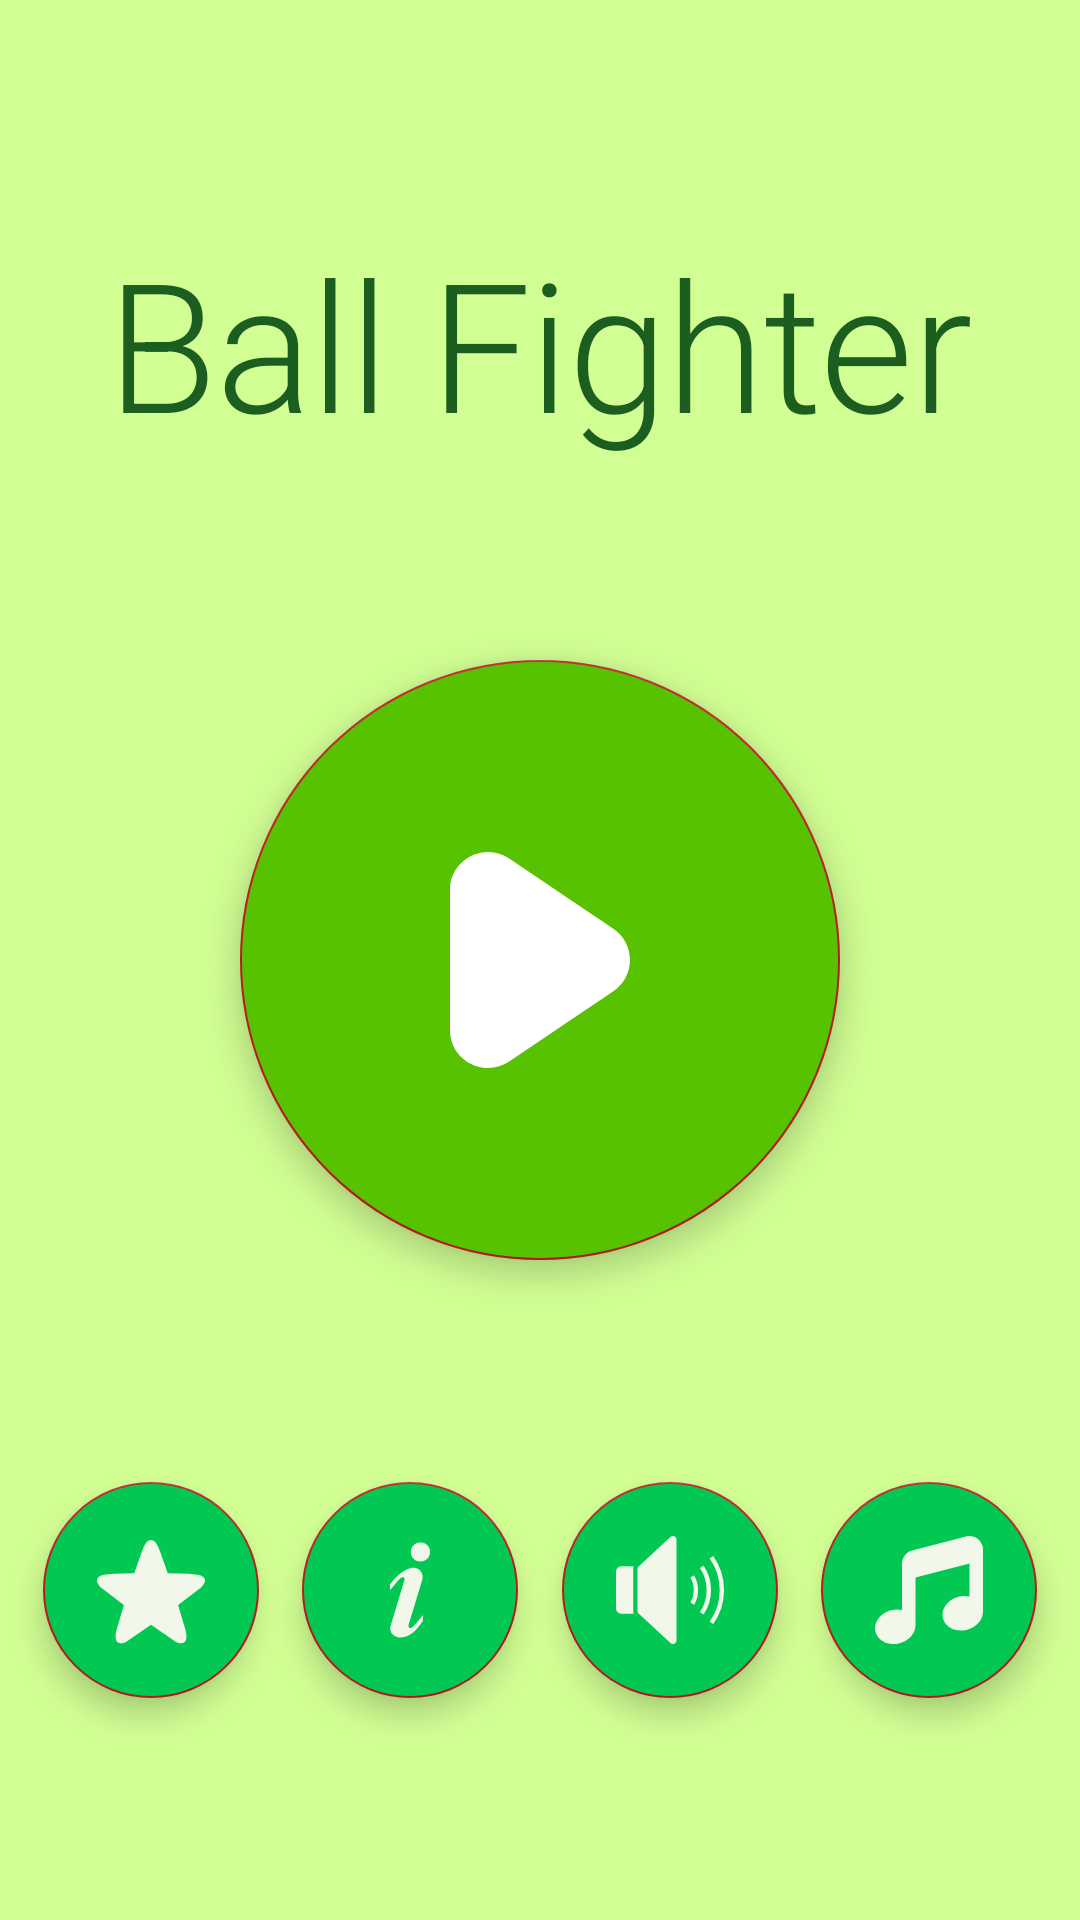

Where to tap for icons on this 1080px x 1920px app screen, as (x,y):
info: (410,1590)
music note: (929,1590)
rating star: (151,1590)
volume: (670,1590)
